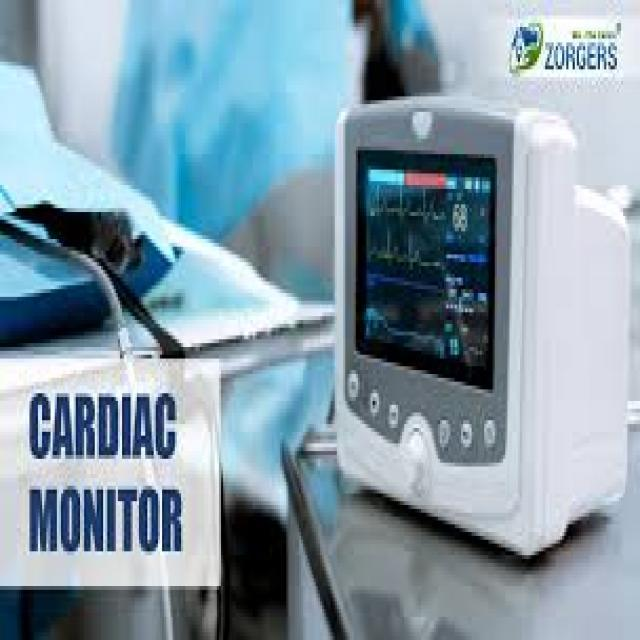cardiac_monitor: (333, 104, 615, 530)
